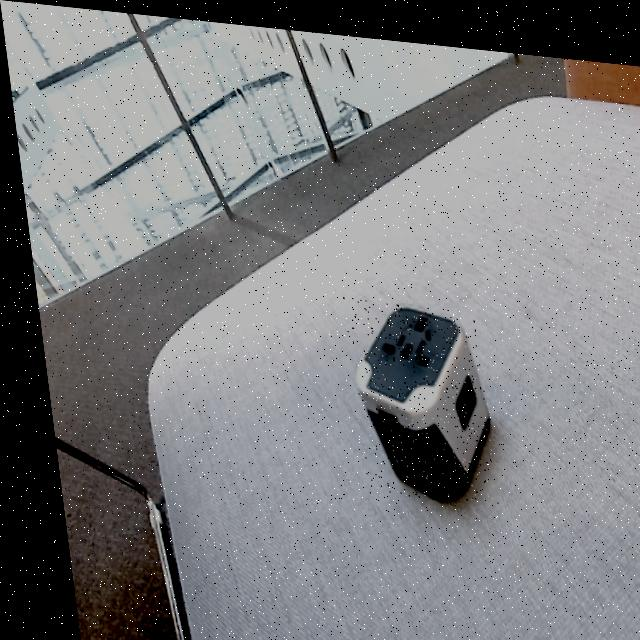adapter: (337, 290, 488, 497)
